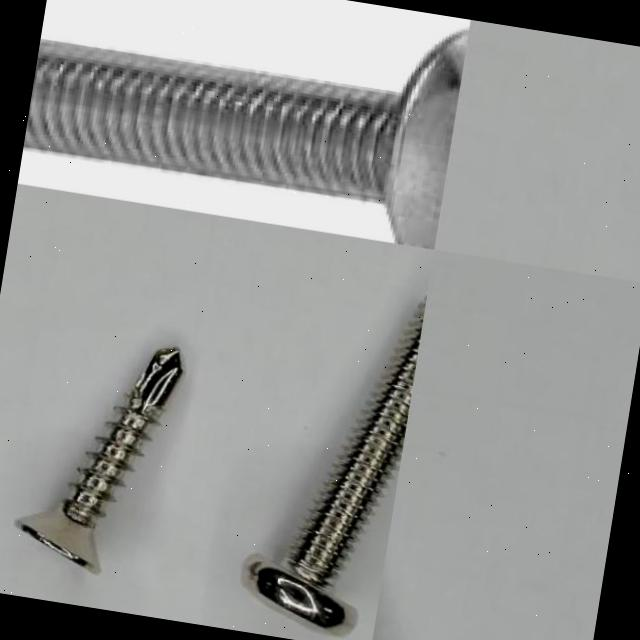Screw: (23, 33, 469, 250), (243, 300, 426, 636), (14, 349, 180, 574)
